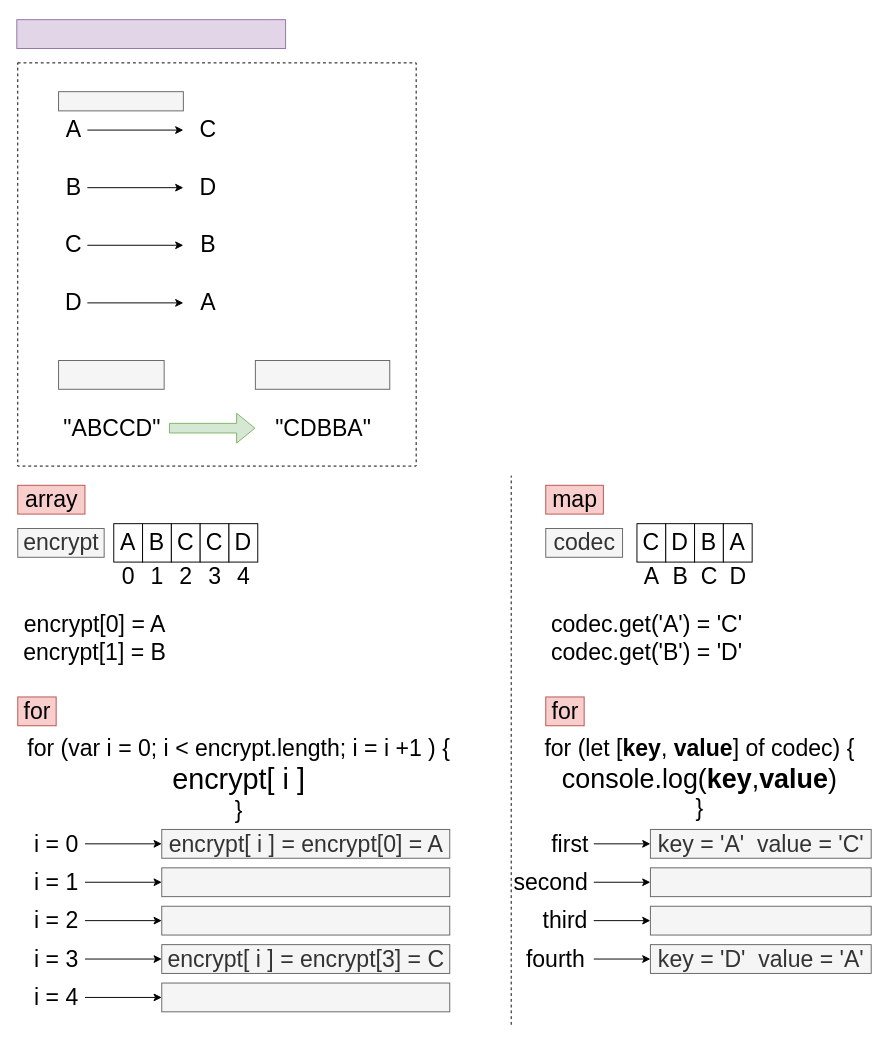
Some shapes in this 888 by 1043 pixel diagram are drawn without their labels. The box of each missing label's shape, as (x1, y1, x2, y2) in pixels:
codec map: (58, 91, 183, 111)
encrypt[ i ] = encrypt[1] = B: (161, 867, 450, 897)
encrypt[ i ] = encrypt[2] = C: (161, 905, 450, 935)
encrypt[ i ] = encrypt[4] = D: (161, 982, 450, 1012)
for in array & map: (16, 19, 286, 48)
incoming: (58, 360, 164, 389)
key = 'B' value = 'D': (649, 867, 871, 897)
key = 'C' value = 'B': (649, 905, 871, 935)
outstanding: (254, 360, 390, 389)
